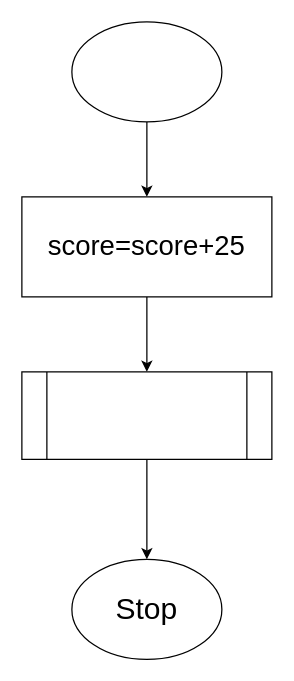
Image size: 294x681. Some labels were removed from this diagram. Each missing label, with the centre of its shape:
"Set kangaroo's position to home" goes at point (146, 415).
"Start" goes at point (146, 71).
